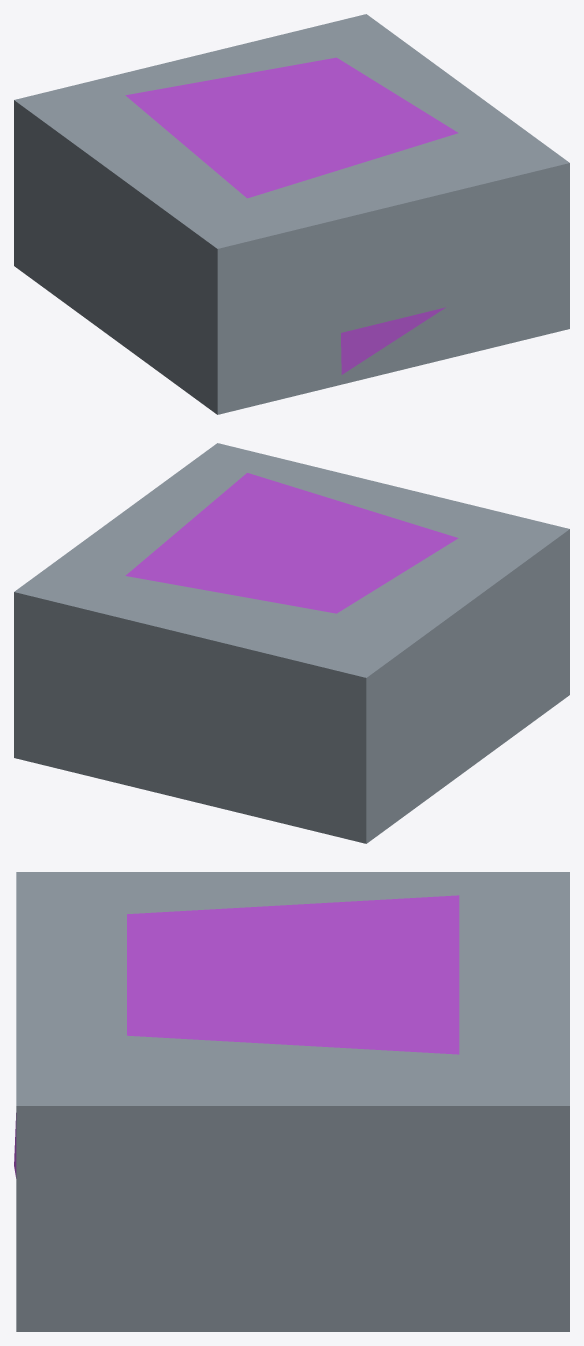
File: CH_Airfield_LOD1.glb
3 renders of one model, top to bottom at view 1: azimuth 30°, elevation 25°; view 2: azimuth 150°, elevation 25°; view 3: azimuth 270°, elevation 25°, orthographic. The views are drawn at different scales.
Visible parts, largest first — view 1: EntranceGate; view 2: EntranceGate; view 3: EntranceGate.
Part boxes in pixels (<box>): EntranceGate: <box>14,14,569,414</box>; EntranceGate: <box>14,443,569,843</box>; EntranceGate: <box>14,872,569,1331</box>.
Bounding box in the file's own units: 800 × 398 × 803.
